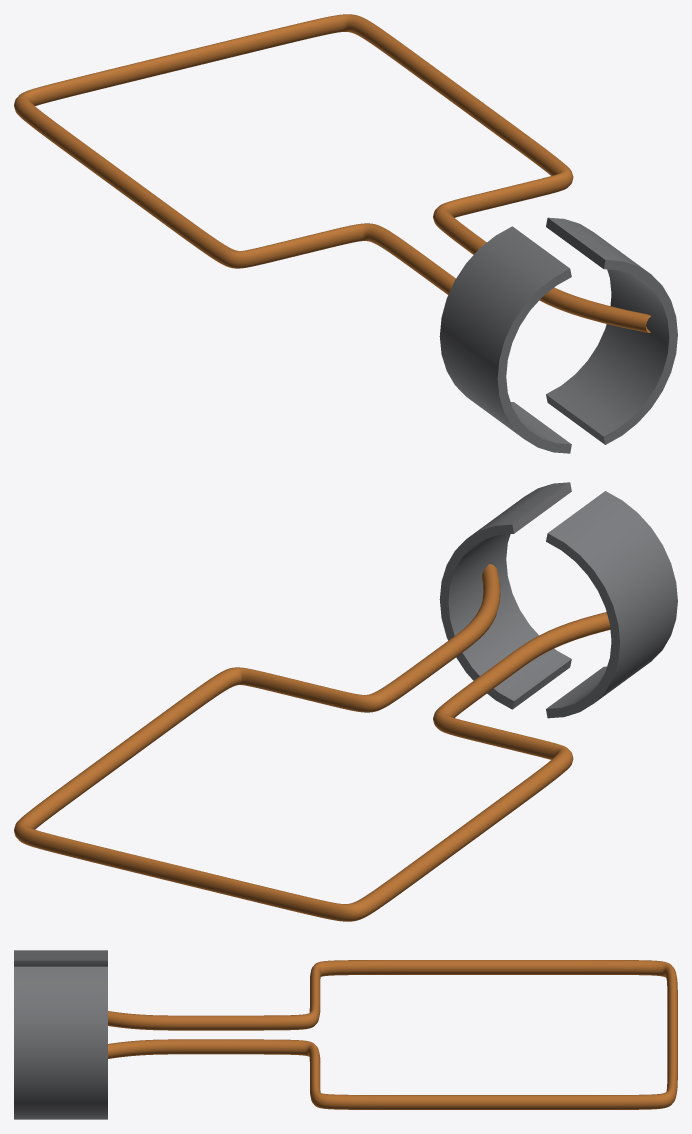
Rendered from DCcoil5.glb.
3 renders of one model, top to bottom at view 1: azimuth 30°, elevation 25°; view 2: azimuth 150°, elevation 25°; view 3: azimuth 270°, elevation 25°, orthographic. The views are drawn at different scales.
Visible parts, largest first — view 1: NURBSパス.006, 円柱.003, 円柱.001; view 2: NURBSパス.006, 円柱.003, 円柱.001; view 3: NURBSパス.006, 円柱.001, 円柱.003.
Boxes of the visible parts, <box> form: NURBSパス.006: <box>14,14,650,332</box>; 円柱.003: <box>439,226,571,453</box>; 円柱.001: <box>546,217,677,444</box>; NURBSパス.006: <box>14,564,610,921</box>; 円柱.003: <box>546,491,677,718</box>; 円柱.001: <box>439,482,571,709</box>; NURBSパス.006: <box>108,960,677,1109</box>; 円柱.001: <box>14,966,107,1119</box>; 円柱.003: <box>14,950,107,966</box>.
Size of the model in its own units: 3.56 by 1.77 by 7.06.
